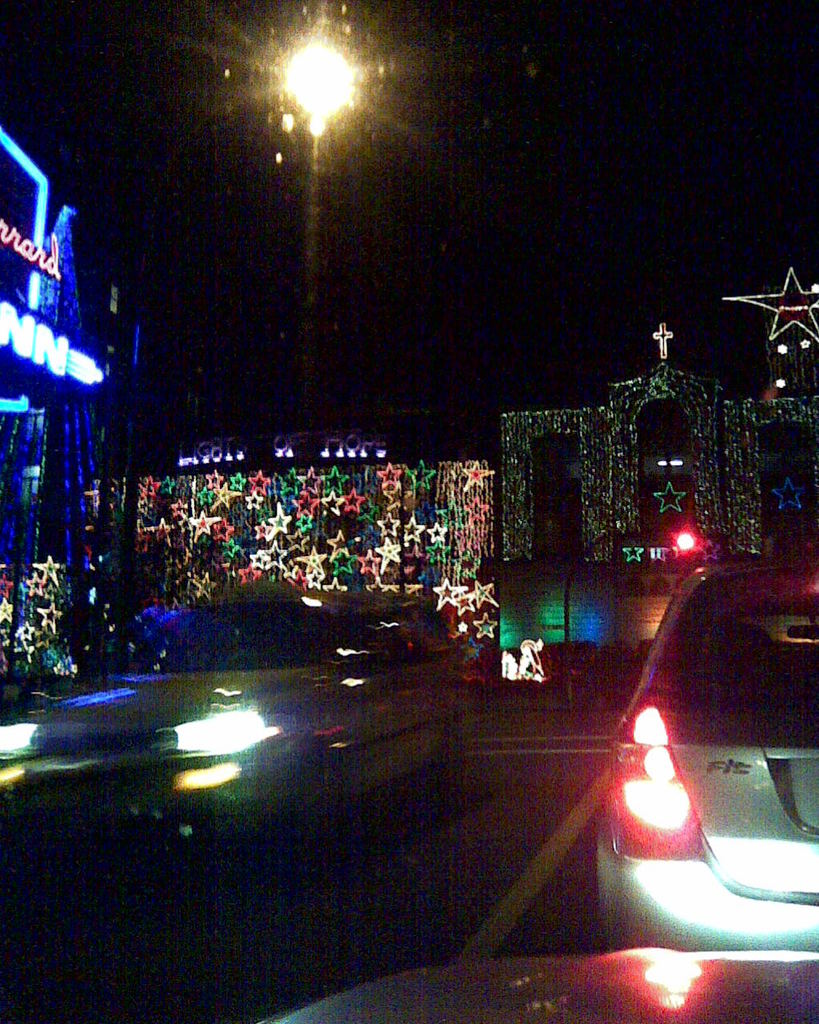Car: (15, 564, 491, 884), (578, 557, 818, 962), (230, 941, 814, 1023)
